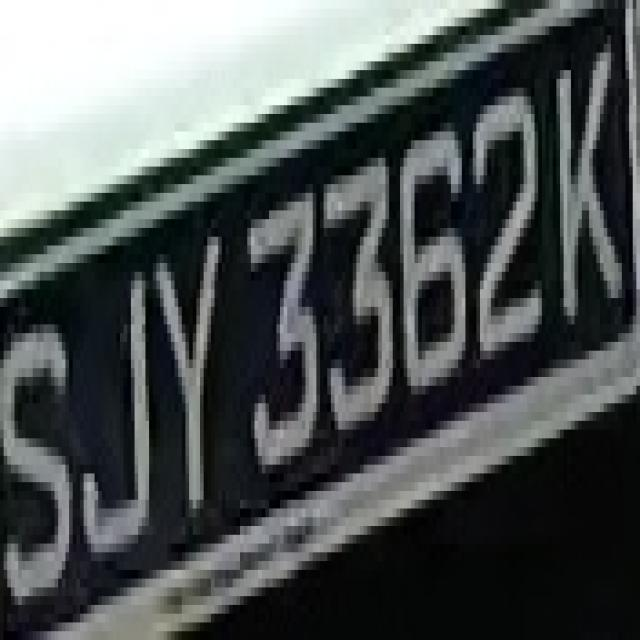2: (458, 70, 546, 377)
3: (232, 158, 324, 473), (312, 132, 392, 447)
6: (382, 105, 473, 421)
J: (66, 220, 156, 552)
K: (549, 9, 618, 333)
S: (0, 280, 87, 604)
Y: (146, 193, 229, 552)
